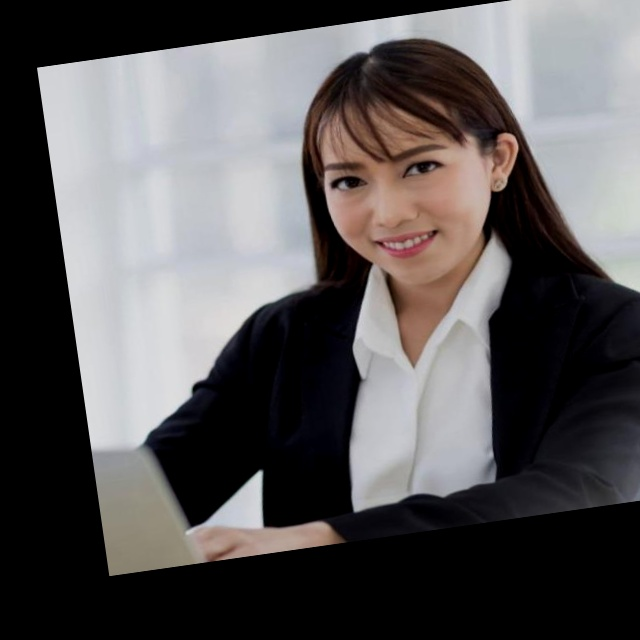Sin_Casco_Mascarrilla: (293, 26, 527, 292)
Sin_Chaleco: (220, 241, 640, 549)
